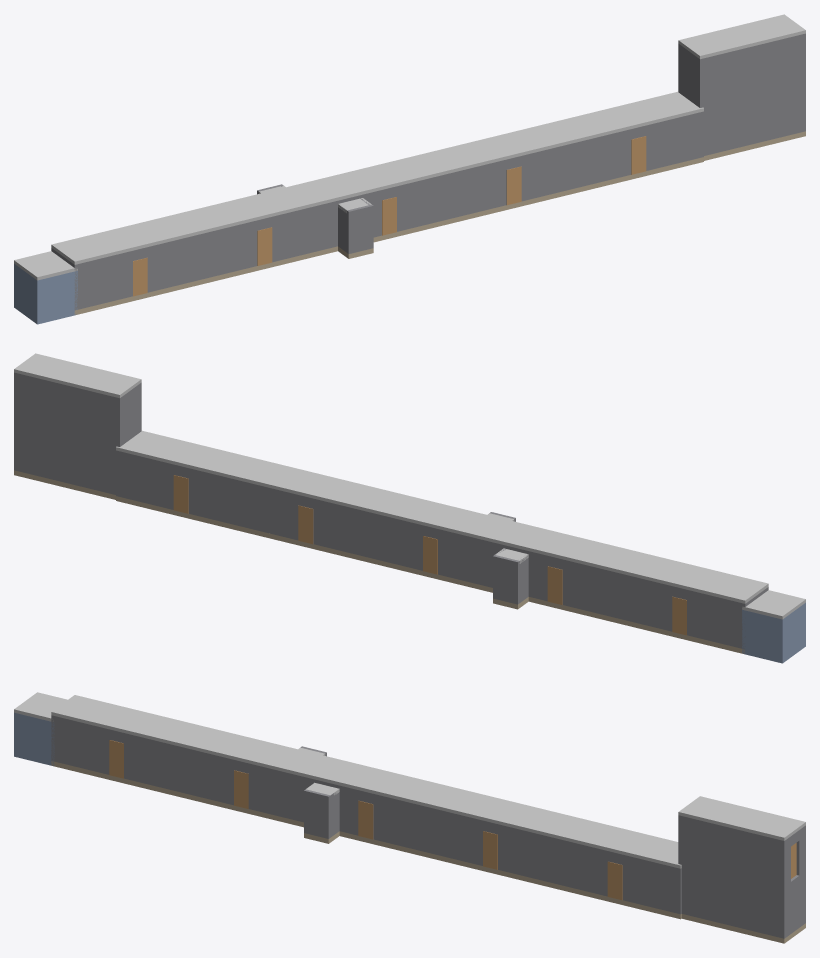
The model's file is floor_3.glb.
3 renders of one model, top to bottom at view 1: azimuth 30°, elevation 25°; view 2: azimuth 150°, elevation 25°; view 3: azimuth 330°, elevation 25°, orthographic.
Parts seen in each view (by area): view 1: Corridor_Ceiling, Stairwell_Wall_S, Corridor_Wall_S_3, Corridor_Wall_S_11, Corridor_Wall_S_9, Corridor_Floor, Corridor_Wall_S_5, Stairwell_Ceiling, Corridor_Wall_S_1, Corridor_Wall_S_13, LiftCar_Wall_S_1, Alcove_Back_2 (+7 smaller); view 2: Corridor_Ceiling, Stairwell_Wall_N, Corridor_Wall_N_3, Corridor_Wall_N_11, Corridor_Wall_N_9, Corridor_Floor, Stairwell_Ceiling, Corridor_Wall_N_13, Corridor_Wall_N_7, Corridor_Wall_N_1, LiftCar_Wall_N_1, Alcove_Back (+8 smaller); view 3: Corridor_Ceiling, Stairwell_Wall_S, Corridor_Wall_S_9, Corridor_Wall_S_11, Corridor_Wall_S_3, Corridor_Floor, Corridor_Wall_S_13, Stairwell_Ceiling, Corridor_Wall_S_1, Corridor_Wall_S_5, LiftCar_Wall_S_1, Alcove_Back_2 (+11 smaller).
Boxes of the visible parts, <box> form: Corridor_Ceiling: <box>51,91,703,264</box>; Stairwell_Wall_S: <box>698,33,805,155</box>; Corridor_Wall_S_3: <box>147,220,257,292</box>; Corridor_Wall_S_11: <box>521,129,631,201</box>; Corridor_Wall_S_9: <box>396,159,506,231</box>; Corridor_Floor: <box>74,157,703,315</box>; Corridor_Wall_S_5: <box>272,200,340,262</box>; Stairwell_Ceiling: <box>678,14,805,59</box>; Corridor_Wall_S_1: <box>73,251,132,310</box>; Corridor_Wall_S_13: <box>646,111,703,170</box>; LiftCar_Wall_S_1: <box>35,271,77,319</box>; Alcove_Back_2: <box>347,204,373,253</box>; Corridor_Ceiling: <box>116,430,768,603</box>; Stairwell_Wall_N: <box>14,372,121,494</box>; Corridor_Wall_N_3: <box>562,559,672,631</box>; Corridor_Wall_N_11: <box>188,468,298,540</box>; Corridor_Wall_N_9: <box>313,498,423,570</box>; Corridor_Floor: <box>116,496,744,653</box>; Stairwell_Ceiling: <box>14,353,141,398</box>; Corridor_Wall_N_13: <box>116,450,173,509</box>; Corridor_Wall_N_7: <box>438,529,506,587</box>; Corridor_Wall_N_1: <box>687,590,746,648</box>; LiftCar_Wall_N_1: <box>742,609,784,658</box>; Alcove_Back: <box>493,555,519,604</box>; Corridor_Ceiling: <box>51,695,681,868</box>; Stairwell_Wall_S: <box>678,815,786,938</box>; Corridor_Wall_S_9: <box>373,794,483,865</box>; Corridor_Wall_S_11: <box>498,824,607,896</box>; Corridor_Wall_S_3: <box>124,733,233,805</box>; Corridor_Floor: <box>51,761,681,919</box>; Corridor_Wall_S_13: <box>622,854,681,914</box>; Stairwell_Ceiling: <box>678,796,805,840</box>; Corridor_Wall_S_1: <box>51,715,109,774</box>; Corridor_Wall_S_5: <box>248,763,317,822</box>; LiftCar_Wall_S_1: <box>14,712,54,760</box>; Alcove_Back_2: <box>304,789,330,838</box>.
Size of the model in its own units: 49.4 by 6.5 by 5.
